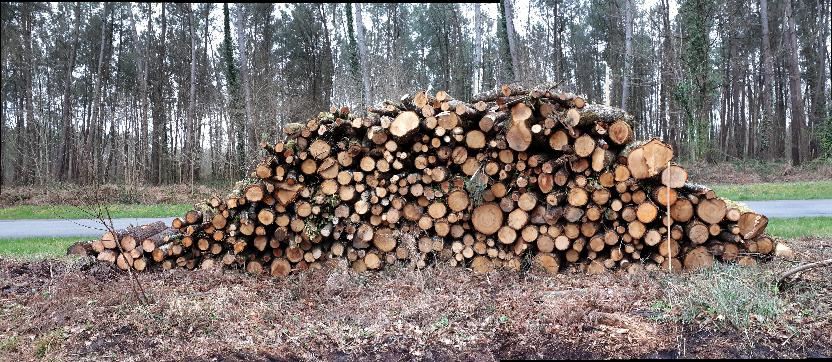etalon: (668, 161, 672, 275)
object: (630, 137, 674, 175), (696, 194, 732, 235), (472, 202, 504, 234), (686, 246, 722, 272), (740, 212, 772, 236), (389, 111, 419, 135), (508, 120, 532, 150), (670, 196, 694, 224), (276, 183, 301, 208), (662, 164, 690, 186), (774, 240, 798, 262), (532, 254, 557, 274), (610, 120, 630, 144), (572, 135, 596, 155), (302, 222, 322, 246), (445, 190, 468, 210), (375, 229, 398, 249), (319, 158, 339, 180), (96, 250, 116, 272), (435, 110, 459, 128), (68, 244, 92, 262), (269, 258, 293, 276), (470, 258, 494, 276), (508, 211, 528, 232), (658, 240, 684, 256), (590, 258, 613, 276), (549, 130, 569, 150), (403, 202, 423, 222), (691, 223, 711, 243), (310, 140, 332, 158), (635, 203, 657, 221), (591, 146, 607, 170), (466, 130, 485, 150), (656, 187, 678, 204), (568, 187, 590, 204), (427, 200, 446, 219), (462, 158, 482, 176), (328, 258, 350, 274), (569, 154, 587, 172), (519, 192, 537, 210), (118, 252, 136, 270), (664, 258, 682, 276), (512, 104, 532, 120), (284, 122, 304, 138), (368, 127, 388, 143), (616, 161, 632, 181), (538, 173, 554, 193), (522, 224, 542, 240), (721, 244, 741, 260), (285, 246, 305, 262), (244, 188, 266, 202), (758, 235, 772, 257), (738, 257, 760, 271), (452, 145, 468, 163), (255, 164, 273, 180), (450, 173, 468, 189), (296, 200, 312, 218), (258, 208, 274, 226), (358, 223, 374, 241), (500, 226, 516, 244), (644, 228, 662, 244), (121, 234, 137, 252), (364, 252, 382, 268), (598, 170, 618, 184), (351, 260, 371, 274), (334, 202, 352, 217), (366, 170, 382, 186), (104, 231, 120, 247), (418, 237, 434, 253), (414, 252, 430, 268), (567, 109, 581, 127), (628, 221, 646, 235), (588, 236, 606, 250), (535, 238, 553, 252), (330, 242, 348, 256), (394, 246, 412, 260), (564, 223, 580, 238), (431, 166, 445, 182), (321, 180, 337, 194), (338, 185, 354, 199), (595, 190, 611, 204), (632, 189, 646, 205), (354, 200, 370, 214), (546, 209, 562, 223), (185, 209, 201, 223), (582, 220, 598, 234), (272, 226, 288, 240), (513, 238, 527, 254), (628, 262, 644, 276), (564, 206, 584, 217), (346, 144, 364, 156), (337, 152, 355, 164), (292, 260, 310, 272), (416, 90, 428, 108), (499, 148, 514, 162), (240, 220, 254, 235), (253, 237, 267, 252), (620, 208, 636, 221), (360, 156, 374, 170), (378, 158, 392, 172), (492, 182, 506, 196), (707, 187, 721, 201), (546, 192, 560, 206), (392, 197, 406, 211), (728, 208, 742, 222), (212, 214, 226, 228), (292, 217, 306, 231), (435, 221, 449, 235), (300, 160, 316, 172), (502, 196, 514, 212), (419, 216, 435, 228), (606, 228, 618, 244), (202, 259, 218, 271), (648, 262, 664, 274), (338, 170, 352, 183), (452, 224, 465, 238), (566, 249, 580, 262), (142, 237, 154, 252), (352, 240, 370, 250), (439, 247, 452, 260), (541, 104, 555, 116), (480, 118, 494, 130), (414, 156, 428, 168), (486, 162, 498, 176), (554, 172, 566, 186), (375, 184, 387, 198), (388, 209, 402, 221), (276, 213, 290, 225), (672, 226, 684, 240), (402, 233, 414, 247), (154, 248, 166, 262), (134, 258, 148, 270), (248, 262, 262, 274), (276, 166, 286, 182), (223, 198, 239, 208), (439, 144, 452, 156), (574, 94, 585, 108), (423, 104, 435, 116), (426, 116, 438, 128), (336, 137, 348, 149), (542, 161, 554, 173), (411, 184, 423, 196), (433, 186, 445, 198), (372, 203, 384, 215), (588, 208, 600, 220), (345, 223, 357, 235), (410, 223, 422, 235), (463, 234, 475, 246), (712, 244, 724, 256), (487, 246, 499, 258), (386, 253, 398, 265), (473, 100, 486, 111), (306, 120, 320, 130), (424, 186, 434, 200), (170, 218, 184, 228), (558, 236, 568, 250), (232, 242, 246, 252), (170, 245, 184, 255), (610, 250, 624, 260), (222, 254, 236, 264), (174, 257, 188, 267), (490, 258, 504, 268), (310, 261, 324, 271), (529, 155, 540, 167), (422, 172, 433, 184), (548, 227, 560, 238), (746, 241, 758, 252), (212, 243, 223, 255), (454, 127, 464, 140), (186, 226, 196, 239), (616, 182, 630, 191), (236, 255, 247, 266), (545, 117, 557, 127), (380, 116, 390, 128), (316, 125, 328, 135), (431, 136, 443, 146), (276, 140, 286, 152), (385, 141, 397, 151), (298, 150, 310, 160), (392, 160, 404, 170), (354, 169, 364, 181), (576, 175, 588, 185), (516, 176, 528, 186), (441, 180, 451, 192), (398, 185, 410, 195), (620, 192, 632, 202), (663, 215, 675, 225), (370, 216, 382, 226), (204, 222, 216, 232), (730, 225, 742, 235), (332, 228, 342, 240), (212, 231, 224, 241), (198, 238, 208, 250), (572, 240, 584, 250), (92, 241, 104, 251), (452, 242, 462, 254), (474, 244, 486, 254), (463, 248, 475, 258), (305, 252, 315, 264), (509, 259, 521, 269), (185, 261, 197, 271), (437, 88, 447, 100), (524, 96, 536, 106), (352, 117, 362, 128), (590, 179, 600, 190), (613, 200, 624, 210), (359, 191, 371, 200), (501, 83, 510, 95), (442, 101, 452, 111), (532, 124, 542, 134), (476, 152, 486, 162), (385, 152, 395, 162), (408, 174, 418, 184), (286, 176, 296, 186), (355, 182, 365, 192), (301, 186, 311, 196), (264, 196, 274, 206), (211, 196, 221, 206), (462, 222, 472, 232), (392, 228, 402, 238), (182, 236, 192, 246), (434, 242, 444, 252), (130, 249, 140, 259), (632, 253, 642, 263), (162, 260, 172, 270), (418, 198, 429, 207), (607, 210, 618, 219), (446, 214, 457, 223), (340, 106, 352, 114), (296, 140, 308, 148), (414, 140, 422, 152), (284, 148, 296, 156), (380, 198, 392, 206), (495, 98, 507, 106), (364, 118, 374, 127), (270, 237, 280, 246), (272, 247, 284, 254), (457, 104, 465, 114), (334, 119, 344, 127), (518, 152, 528, 160), (516, 162, 526, 170), (379, 176, 387, 186), (389, 183, 397, 193), (268, 183, 276, 193), (350, 213, 360, 221), (322, 228, 330, 238), (624, 235, 634, 243), (498, 251, 508, 259), (348, 250, 356, 260), (434, 98, 442, 108), (314, 196, 326, 202), (249, 212, 257, 221), (256, 228, 268, 234), (314, 247, 322, 256), (401, 92, 409, 101), (222, 211, 232, 218), (424, 136, 432, 144), (491, 140, 499, 148), (428, 155, 436, 163), (371, 195, 379, 203), (450, 257, 458, 265), (400, 152, 410, 158), (284, 157, 294, 163), (266, 158, 276, 164), (528, 176, 538, 182), (398, 179, 408, 185), (624, 246, 634, 252), (622, 258, 628, 268), (512, 191, 518, 200), (478, 234, 487, 240), (389, 104, 395, 112), (330, 106, 338, 112), (544, 127, 552, 133), (304, 130, 312, 136), (261, 142, 269, 148), (504, 164, 512, 170), (501, 170, 507, 178), (392, 174, 400, 180), (488, 238, 494, 246), (636, 243, 644, 249), (262, 255, 270, 261), (546, 90, 552, 98), (560, 92, 566, 100), (164, 236, 171, 242), (457, 254, 464, 260), (232, 222, 236, 232), (368, 106, 374, 112), (444, 136, 450, 142), (423, 145, 429, 151), (492, 151, 498, 157), (568, 181, 574, 187), (229, 231, 235, 237), (534, 90, 540, 96), (496, 124, 500, 132), (383, 213, 387, 221), (396, 152, 402, 156), (536, 166, 540, 172), (300, 176, 304, 182), (390, 223, 394, 227)
pile: (68, 80, 796, 276)
